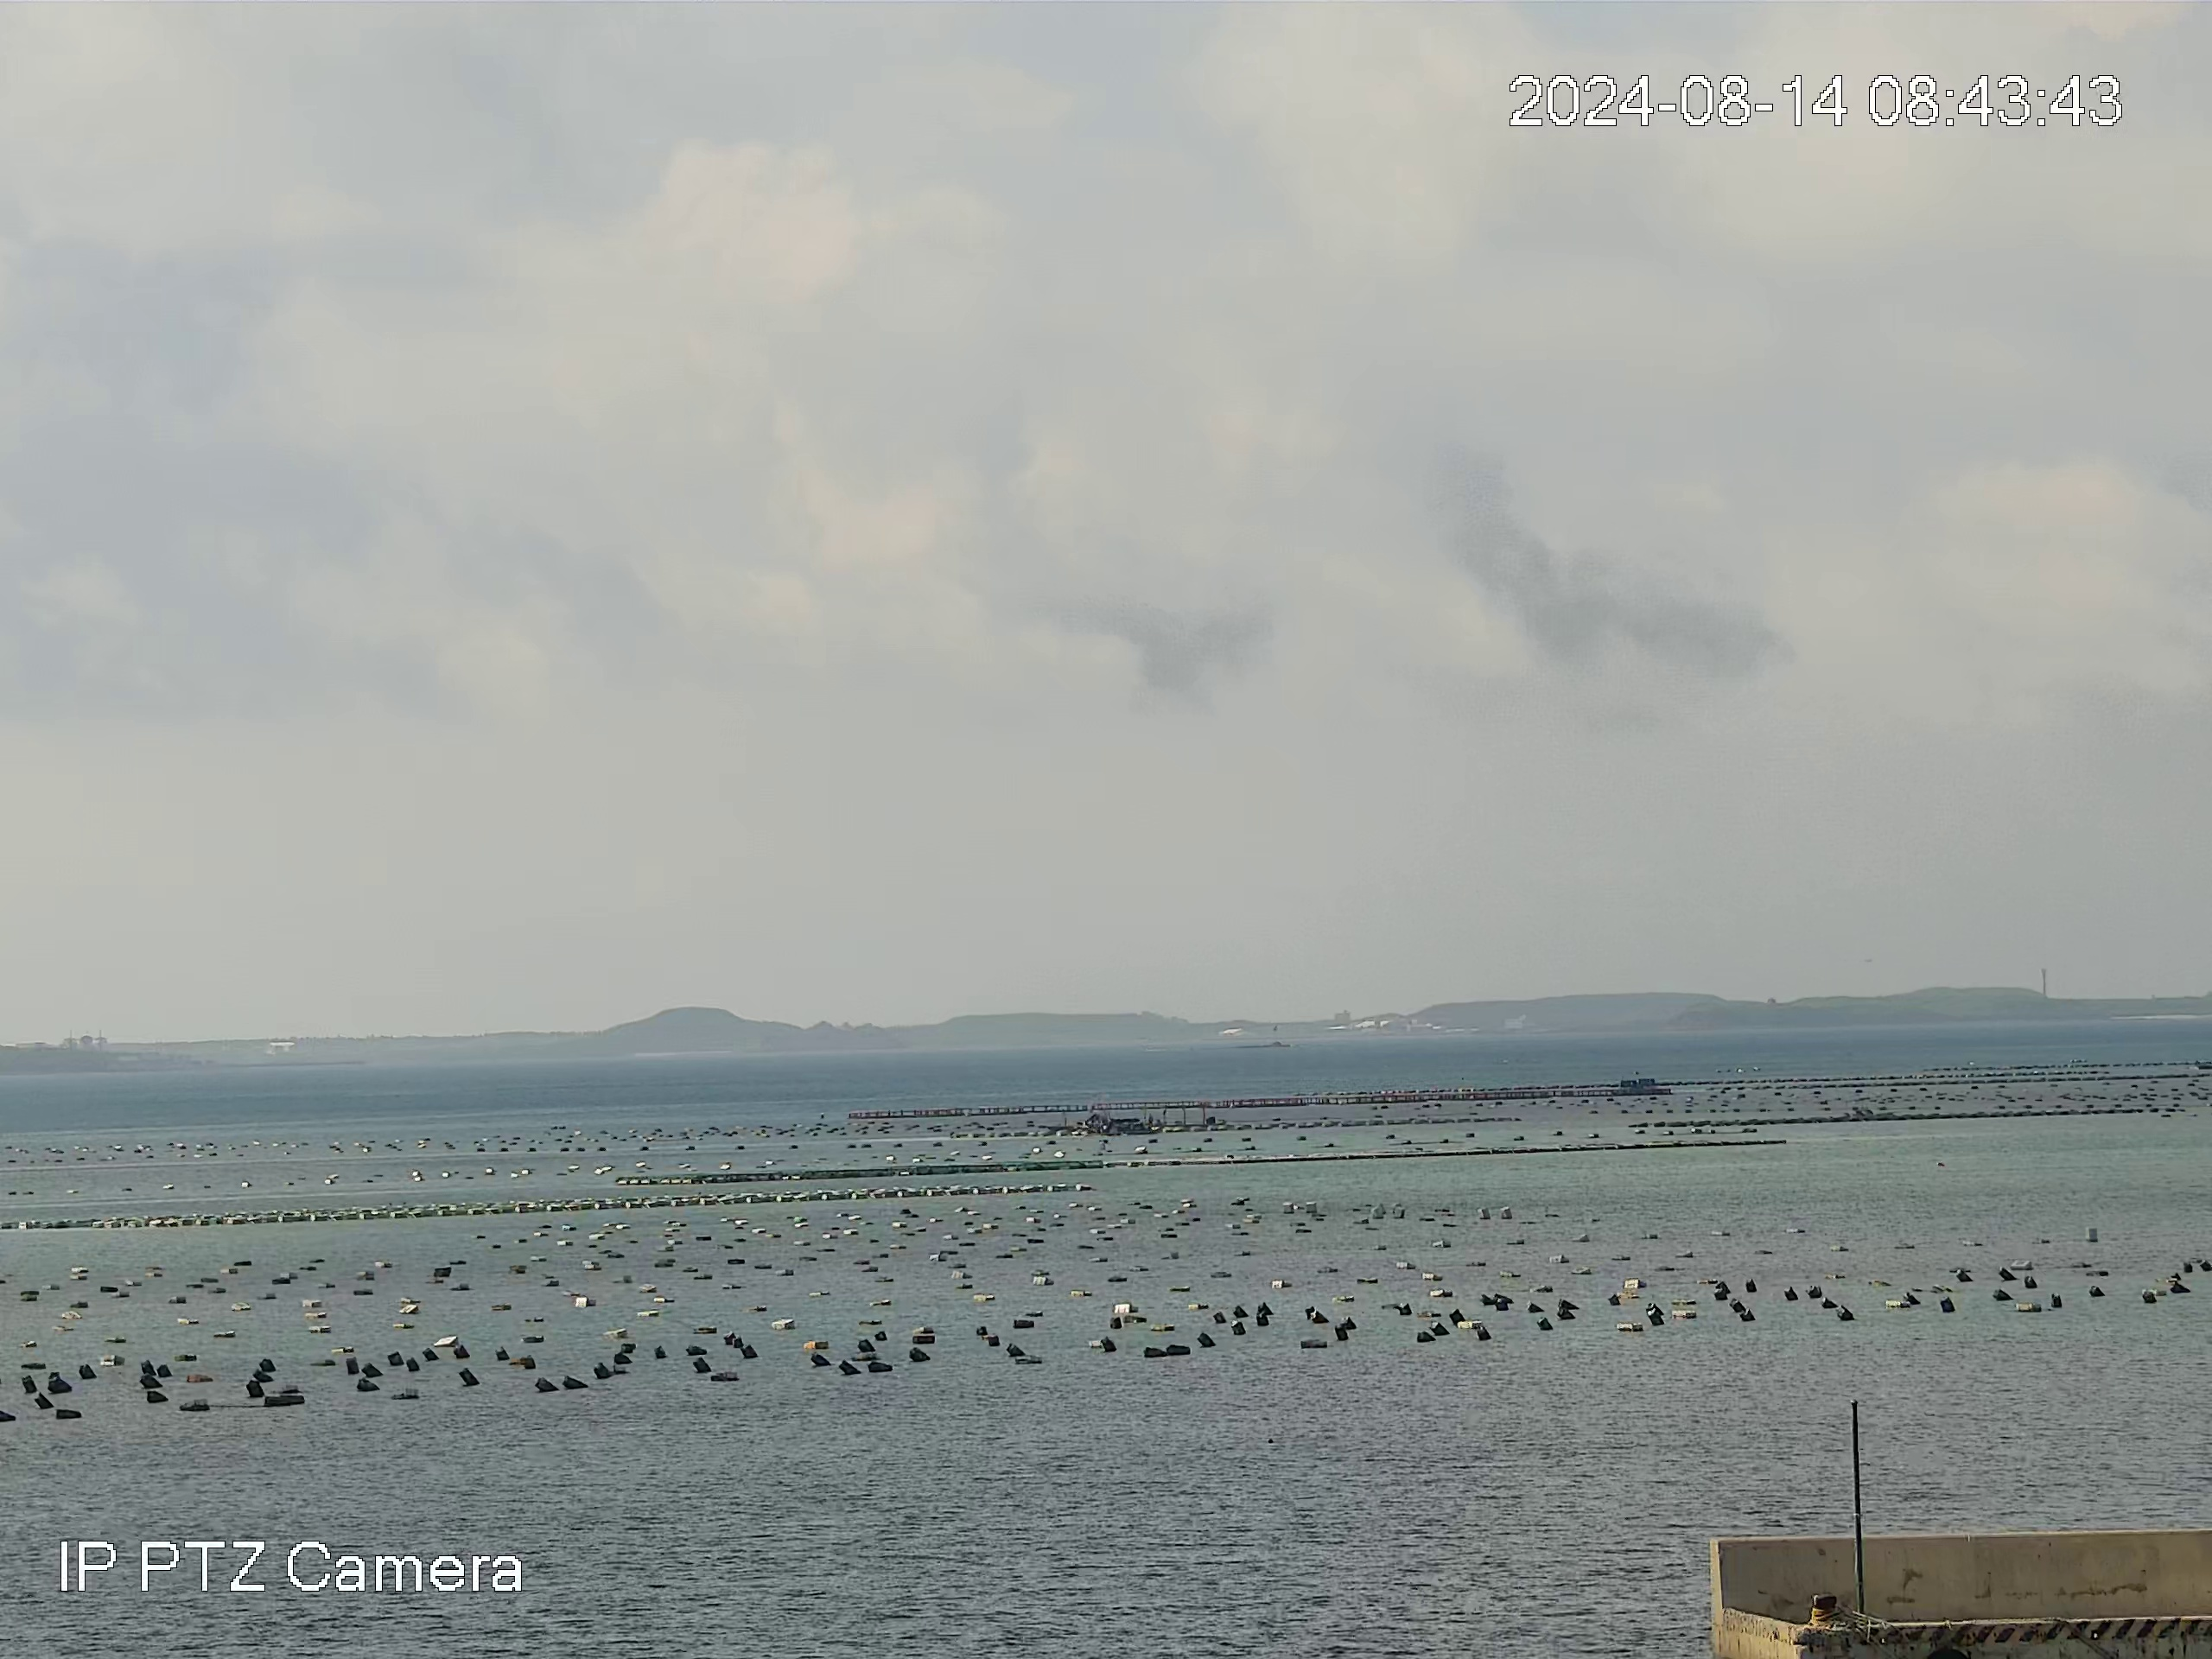boat: (1120, 1114, 1163, 1134)
